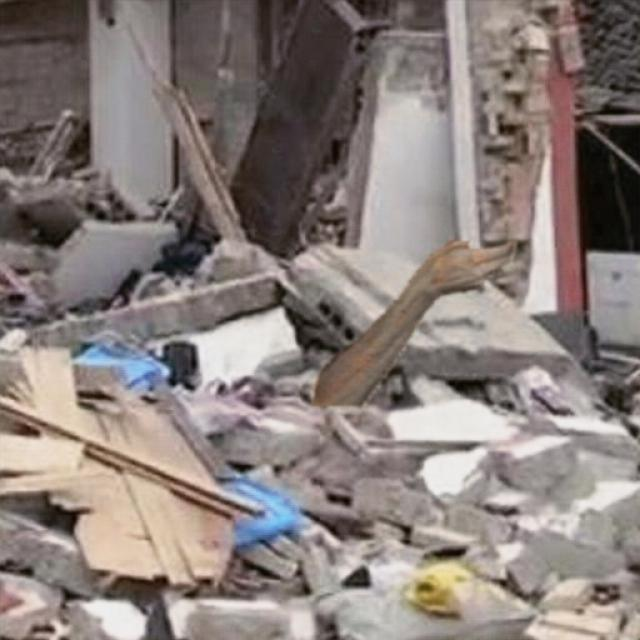Person in Rubble: (311, 241, 515, 405)
